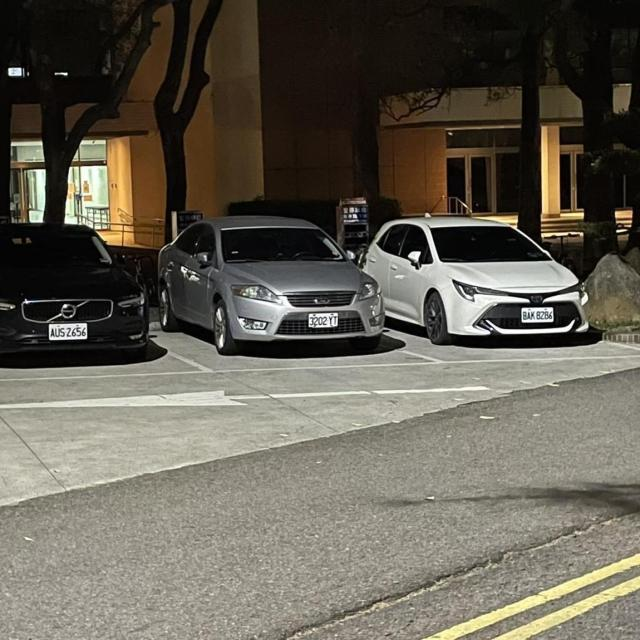W: (299, 308, 344, 334), (43, 320, 91, 343), (515, 304, 557, 328)
